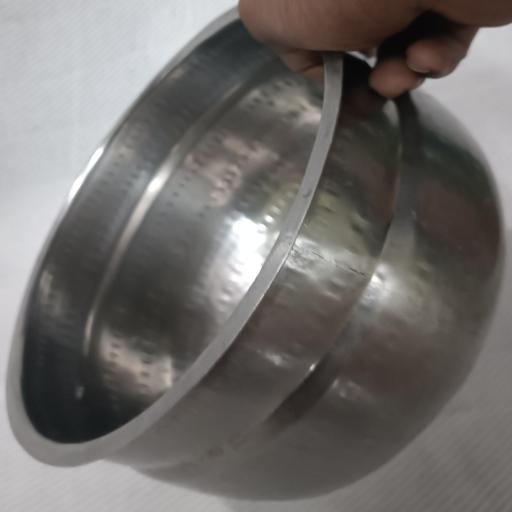vessel: (7, 10, 503, 499)
